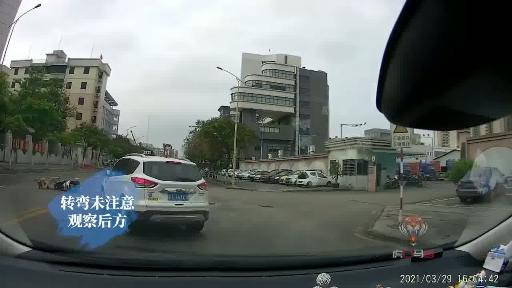Accident: (34, 169, 82, 194)
CAR: (106, 149, 213, 234), (237, 170, 296, 182), (297, 171, 330, 189)
